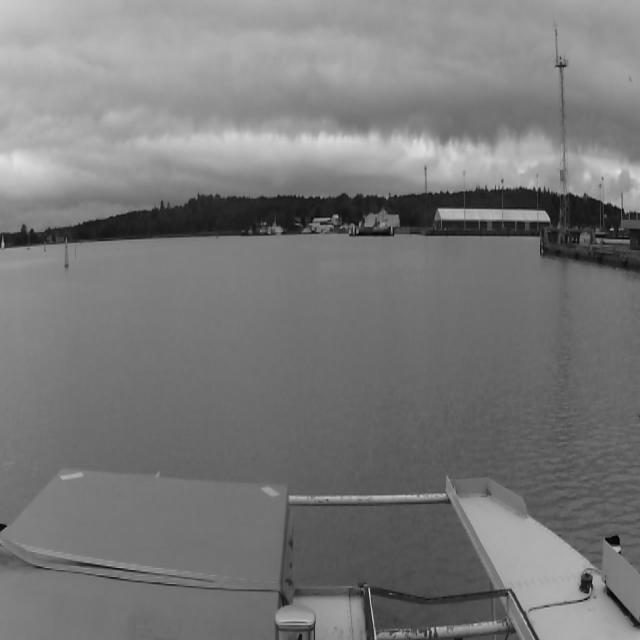buoy: (62, 229, 72, 271), (63, 237, 69, 271)
